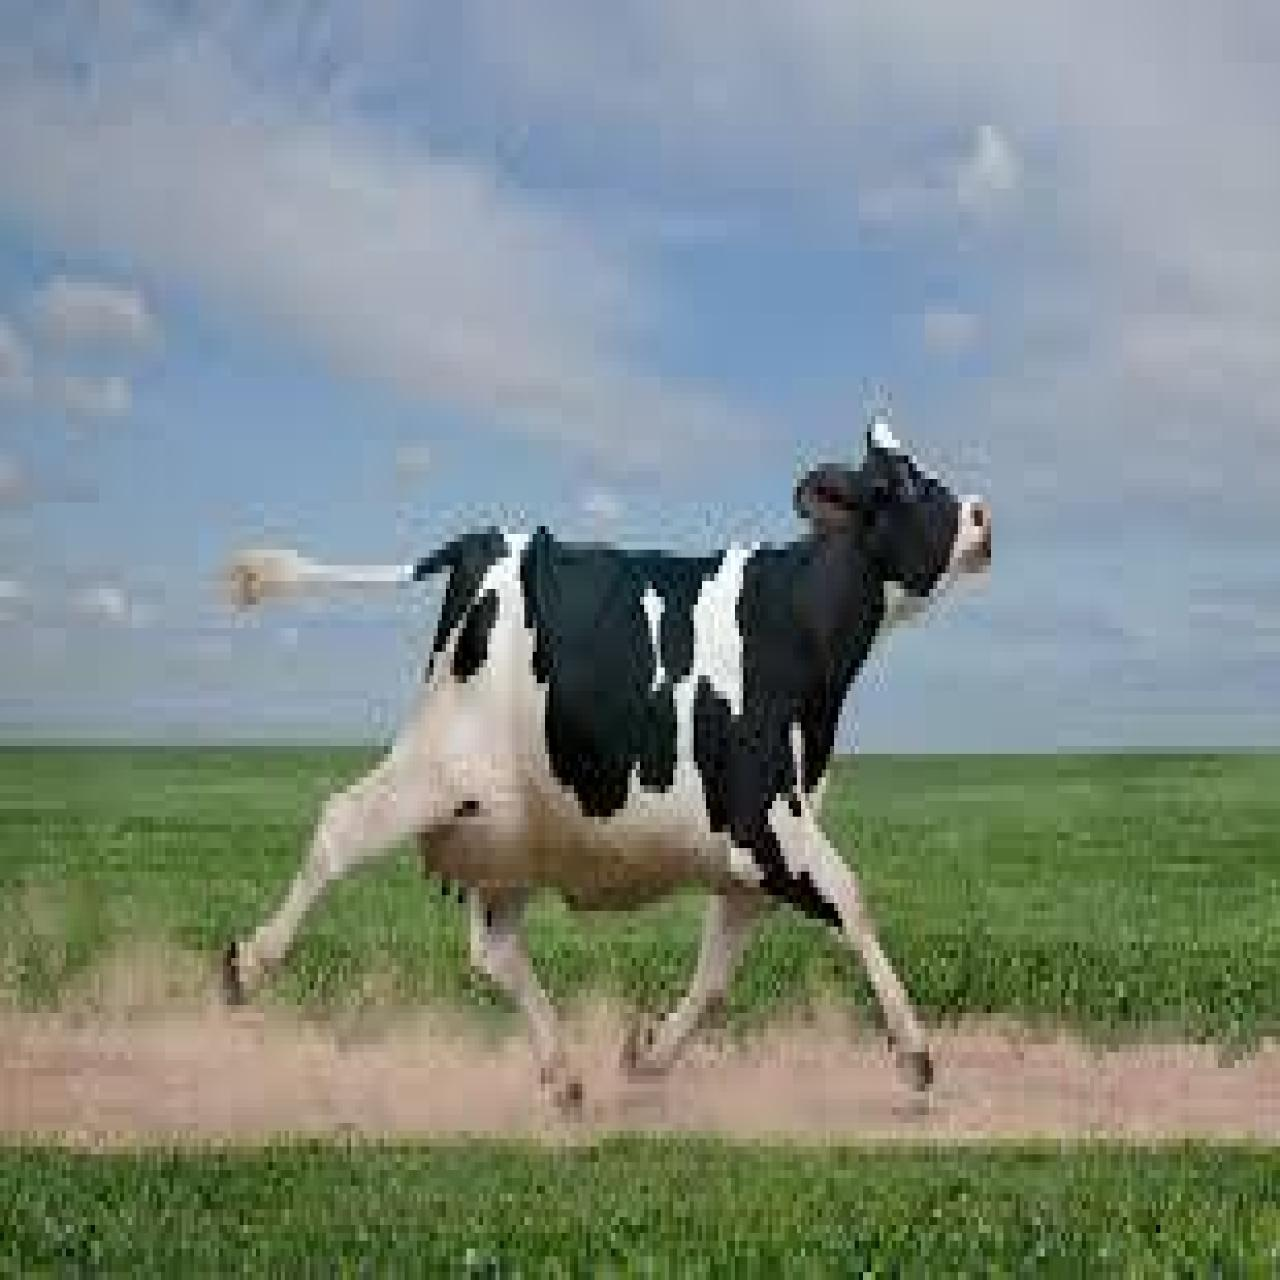cow: (219, 433, 995, 1123)
